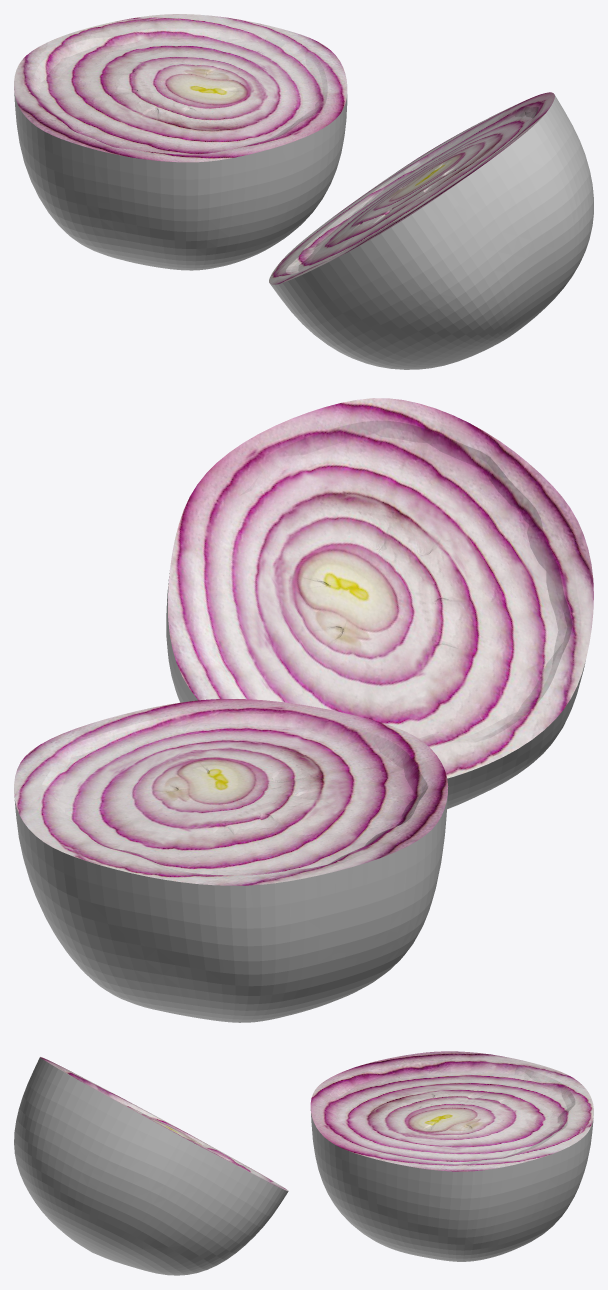
Rendered from cutOnion.obj.
3 views of the same model, one above another, from view 1: azimuth 30°, elevation 25°; view 2: azimuth 150°, elevation 25°; view 3: azimuth 270°, elevation 25° (orthographic). The views are drawn at different scales.
Parts seen in each view (by area): view 1: tomato.000_tomato.007, tomato.005; view 2: tomato.005, tomato.000_tomato.007; view 3: tomato.000_tomato.007, tomato.005.
Boxes of the visible parts, <box> form: tomato.000_tomato.007: <box>14,14,347,270</box>; tomato.005: <box>269,92,593,369</box>; tomato.005: <box>166,398,593,809</box>; tomato.000_tomato.007: <box>14,699,448,1022</box>; tomato.000_tomato.007: <box>310,1051,593,1261</box>; tomato.005: <box>14,1057,288,1275</box>.
Bounding box in the file's own units: 15.92 × 11.38 × 26.85.
